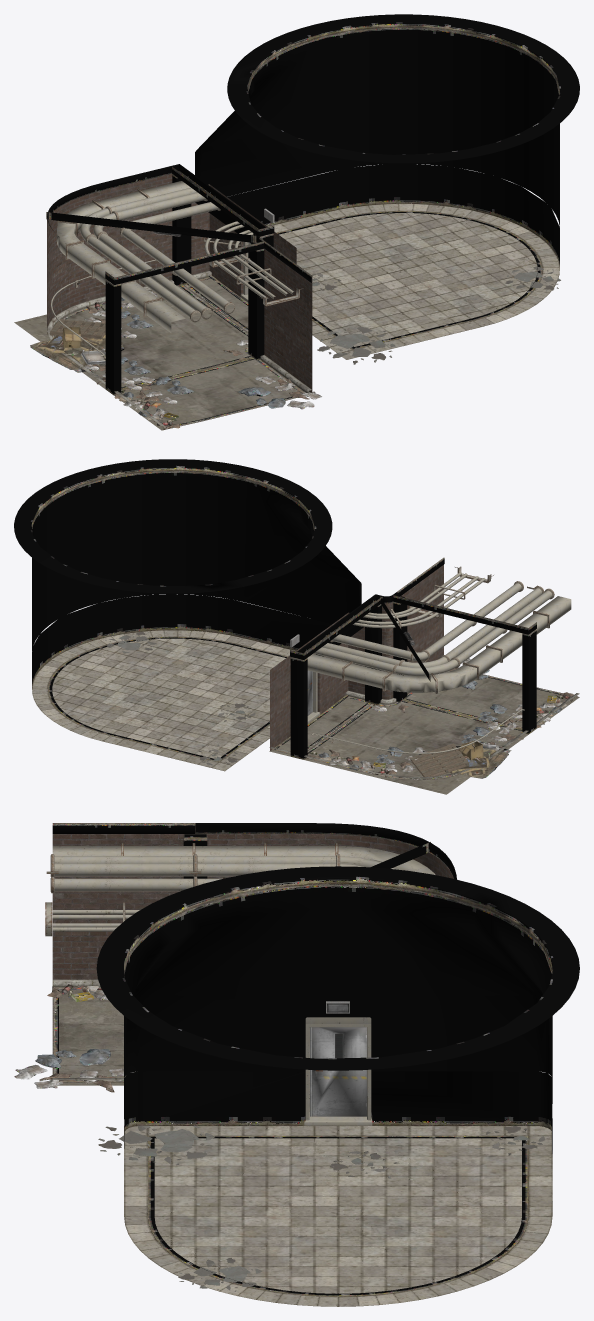
The model's file is link-stairwell-bottom-d.glb.
3 renders of one model, top to bottom at view 1: azimuth 30°, elevation 25°; view 2: azimuth 150°, elevation 25°; view 3: azimuth 270°, elevation 25°, orthographic. The views are drawn at different scales.
Visible parts, largest first — view 1: stairwell_bottom_360_hallway_LOD0, corridor_corner_a_3m_LOD0, corridor_straight_a_3m_LOD0, stairwell_bottom_to_corridor_LOD0, junk_pile_Lshape_a, concrete_debris_a, ground_cloth_a (1), ground_cloth_a, ground_junk_straight_a, pallet_stacks_c, concrete_debris_a (1); view 2: stairwell_bottom_360_hallway_LOD0, corridor_corner_a_3m_LOD0, corridor_straight_a_3m_LOD0, stairwell_bottom_to_corridor_LOD0, pallet_stacks_c, ground_junk_straight_a (×2), ground_cloth_a (×2), junk_pile_Lshape_a, ground_cloth_a (1), concrete_debris_a (1); view 3: stairwell_bottom_360_hallway_LOD0, corridor_straight_a_3m_LOD0, corridor_corner_a_3m_LOD0, industrial_doors_a_a, stairwell_bottom_to_corridor_LOD0, ground_cloth_a (1), concrete_debris_a, concrete_debris_a (1).
Part boxes in pixels (<box>): stairwell_bottom_360_hallway_LOD0: <box>195,14,579,359</box>; corridor_corner_a_3m_LOD0: <box>14,164,274,395</box>; corridor_straight_a_3m_LOD0: <box>114,238,312,430</box>; stairwell_bottom_to_corridor_LOD0: <box>179,164,296,331</box>; junk_pile_Lshape_a: <box>30,326,124,372</box>; concrete_debris_a: <box>317,326,395,364</box>; ground_cloth_a (1): <box>238,376,321,409</box>; ground_cloth_a: <box>125,375,193,404</box>; ground_junk_straight_a: <box>114,389,179,429</box>; pallet_stacks_c: <box>50,319,105,339</box>; concrete_debris_a (1): <box>505,266,560,293</box>; stairwell_bottom_360_hallway_LOD0: <box>14,459,361,771</box>; corridor_corner_a_3m_LOD0: <box>290,592,536,794</box>; corridor_straight_a_3m_LOD0: <box>397,557,579,728</box>; stairwell_bottom_to_corridor_LOD0: <box>269,594,375,756</box>; pallet_stacks_c: <box>410,743,469,779</box>; ground_junk_straight_a (×2): <box>308,692,577,777</box>; ground_cloth_a (×2): <box>375,704,540,772</box>; junk_pile_Lshape_a: <box>412,740,511,778</box>; ground_cloth_a (1): <box>461,727,523,750</box>; concrete_debris_a (1): <box>105,631,158,653</box>; stairwell_bottom_360_hallway_LOD0: <box>96,866,579,1306</box>; corridor_straight_a_3m_LOD0: <box>45,823,197,1085</box>; corridor_corner_a_3m_LOD0: <box>183,823,456,1096</box>; industrial_doors_a_a: <box>310,1027,366,1116</box>; stairwell_bottom_to_corridor_LOD0: <box>304,1017,372,1125</box>; ground_cloth_a (1): <box>14,1048,135,1092</box>; concrete_debris_a: <box>98,1125,214,1165</box>; concrete_debris_a (1): <box>178,1257,262,1291</box>.
Bounding box in the file's own units: 17.03 × 5.78 × 11.89.
15 materials, 15 textured.
